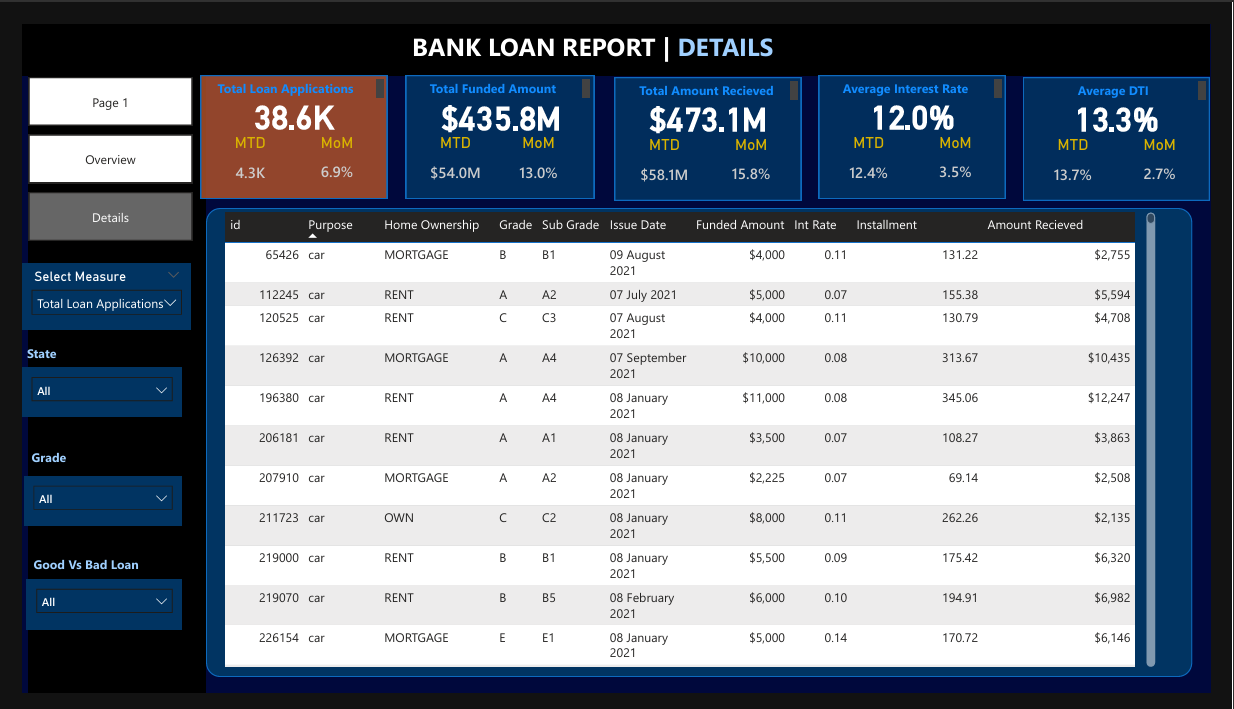

This screenshot's page, from the dashboard's own definition file:
{"tool":"powerbi","page":{"name":"Details","canvas":[1280,720],"ordinal":2},"visuals":[{"type":"shape","box":[6.7,55,191.7,665],"z":0},{"type":"shape","box":[192,55.3,201.2,133],"z":0,"group":"g1"},{"type":"shape","box":[413.3,55.3,202.9,133],"z":0,"group":"g2"},{"type":"shape","box":[858.6,55.3,201.2,133],"z":0,"group":"g4"},{"type":"shape","box":[638.6,57,201.2,133],"z":0,"group":"g3"},{"type":"shape","box":[1078.6,57,201.2,133],"z":0,"group":"g5"},{"type":"shape","box":[0,0,1279.4,54.8],"z":1000},{"type":"card","fields":{"Values":["financial_loan (1).Total Loan Applicationa"]},"box":[191.7,55,201.3,86.4],"z":1000,"group":"g1"},{"type":"card","fields":{"Values":["financial_loan (1).Avg Intrest RATE"]},"box":[858.3,55,201.3,86.4],"z":1000,"group":"g4"},{"type":"card","fields":{"Values":["financial_loan (1).Total Funded Amount"]},"box":[416.4,56.2,198.8,85],"z":1000,"group":"g2"},{"type":"card","fields":{"Values":["financial_loan (1).Total Amount Recieved"]},"box":[638.3,56.7,201.3,86.4],"z":1000,"group":"g3"},{"type":"card","fields":{"Values":["financial_loan (1).Avg dti"]},"box":[1078.3,56.7,201.3,86.4],"z":1000,"group":"g5"},{"type":"textbox","box":[415,0,618.3,55],"z":2000},{"type":"textbox","box":[192,55,201.3,29.9],"z":2000,"group":"g1"},{"type":"textbox","box":[413.4,55,203.1,29.9],"z":2000,"group":"g2"},{"type":"textbox","box":[858.6,55,201.3,29.9],"z":2000,"group":"g4"},{"type":"textbox","box":[638.6,56.7,201.3,29.9],"z":2000,"group":"g3"},{"type":"textbox","box":[1078.6,56.7,201.3,29.9],"z":2000,"group":"g5"},{"type":"group","id":"g1","title":"Group 1","box":[191.7,55,201.7,133.3],"z":3000},{"type":"card","title":"MTD","fields":{"Values":["financial_loan (1).MTD Loan Applications"]},"box":[192.2,116.5,105.5,71.5],"z":3000,"group":"g1"},{"type":"card","title":"MTD","fields":{"Values":["financial_loan (1).MTD Funded Amount"]},"box":[413.6,116.5,106.4,71.5],"z":3000,"group":"g2"},{"type":"card","title":"MTD","fields":{"Values":["financial_loan (1).MTD Avg Intrest rate"]},"box":[858.8,116.5,105.5,71.5],"z":3000,"group":"g4"},{"type":"card","title":"MTD","fields":{"Values":["financial_loan (1).MTD Total Amount Recieved"]},"box":[638.8,118.2,105.5,71.5],"z":3000,"group":"g3"},{"type":"card","title":"MTD","fields":{"Values":["financial_loan (1).MTD Avg dti"]},"box":[1078.8,118.2,105.5,71.5],"z":3000,"group":"g5"},{"type":"group","id":"g2","title":"Group 1","box":[413.3,55,203.3,133.3],"z":4000},{"type":"card","title":"MoM","fields":{"Values":["financial_loan (1).MoM Loan Aplications"]},"box":[303.9,116.7,70,68.3],"z":4000,"group":"g1"},{"type":"card","title":"MoM","fields":{"Values":["financial_loan (1).MoM Funded Amount"]},"box":[520.3,116.7,71.7,71.7],"z":4000,"group":"g2"},{"type":"card","title":"MoM","fields":{"Values":["financial_loan (1).MoM Avg Intrest rate"]},"box":[970.5,116.7,70,68.3],"z":4000,"group":"g4"},{"type":"card","title":"MoM","fields":{"Values":["financial_loan (1).MoM Total Amount Recieved"]},"box":[750.5,118.4,70,68.3],"z":4000,"group":"g3"},{"type":"card","title":"MoM","fields":{"Values":["financial_loan (1).MoM Avg dti"]},"box":[1190.5,118.4,70,68.3],"z":4000,"group":"g5"},{"type":"group","id":"g3","title":"Group 1","box":[638.3,56.7,203.3,133.3],"z":6000},{"type":"group","id":"g4","title":"Group 1","box":[858.3,55,200,133.3],"z":7000},{"type":"group","id":"g5","title":"Group 1","box":[1078.3,56.7,201.7,133.3],"z":8000},{"type":"slicer","fields":{"Values":["financial_loan (1).address_state"]},"box":[0,370,171.7,53.3],"z":9000},{"type":"textbox","box":[0,340,171.7,30],"z":10000},{"type":"slicer","fields":{"Values":["financial_loan (1).grade"]},"box":[1.7,486.7,170,53.3],"z":11000},{"type":"slicer","fields":{"Values":["financial_loan (1).Good vs Bad Loan"]},"box":[5,598.3,166.7,53.3],"z":12000},{"type":"textbox","box":[6.7,568.3,171.7,30],"z":13000},{"type":"textbox","box":[5,451.7,171.7,30],"z":14000},{"type":"shape","box":[198.3,198.3,1061.7,505],"z":15000},{"type":"slicer","fields":{"Values":["Select Measure.Select Measure"]},"box":[0,258.3,181.7,71.7],"z":16000},{"type":"tableEx","fields":{"Values":["financial_loan (1).id","financial_loan (1).purpose","financial_loan (1).home_ownership","financial_loan (1).grade","financial_loan (1).sub_grade","financial_loan (1).issue_date","financial_loan (1).Total Funded Amount","Sum(financial_loan (1).int_rate)","Sum(financial_loan (1).installment)","financial_loan (1).Total Amount Recieved"]},"box":[213.3,198.3,1011.7,498.3],"z":20001},{"type":"pageNavigator","box":[6.7,56.7,176.7,176.7],"z":20002}]}

Visuals, with their boxes in screenshot pixels (x1, y1, x2, y2), scaled from the page's 1280x720 canvas onto the 1234x709 screenshot:
shape: locate(6, 54, 191, 708)
shape: locate(185, 54, 379, 185)
shape: locate(398, 54, 594, 185)
shape: locate(828, 54, 1022, 185)
shape: locate(616, 56, 810, 187)
shape: locate(1040, 56, 1233, 187)
shape: locate(0, 0, 1233, 54)
card - financial_loan (1).Total Loan Applicationa: locate(185, 54, 379, 139)
card - financial_loan (1).Avg Intrest RATE: locate(827, 54, 1022, 139)
card - financial_loan (1).Total Funded Amount: locate(401, 55, 593, 139)
card - financial_loan (1).Total Amount Recieved: locate(615, 56, 809, 141)
card - financial_loan (1).Avg dti: locate(1040, 56, 1233, 141)
textbox: locate(400, 0, 996, 54)
textbox: locate(185, 54, 379, 84)
textbox: locate(399, 54, 594, 84)
textbox: locate(828, 54, 1022, 84)
textbox: locate(616, 56, 810, 85)
textbox: locate(1040, 56, 1233, 85)
"Group 1" group: locate(185, 54, 379, 185)
"MTD" card: locate(185, 115, 287, 185)
"MTD" card: locate(399, 115, 501, 185)
"MTD" card: locate(828, 115, 930, 185)
"MTD" card: locate(616, 116, 718, 187)
"MTD" card: locate(1040, 116, 1142, 187)
"Group 1" group: locate(398, 54, 594, 185)
"MoM" card: locate(293, 115, 360, 182)
"MoM" card: locate(502, 115, 571, 186)
"MoM" card: locate(936, 115, 1003, 182)
"MoM" card: locate(724, 117, 791, 184)
"MoM" card: locate(1148, 117, 1215, 184)
"Group 1" group: locate(615, 56, 811, 187)
"Group 1" group: locate(827, 54, 1020, 185)
"Group 1" group: locate(1040, 56, 1233, 187)
slicer - financial_loan (1).address_state: locate(0, 364, 166, 417)
textbox: locate(0, 335, 166, 364)
slicer - financial_loan (1).grade: locate(2, 479, 166, 532)
slicer - financial_loan (1).Good vs Bad Loan: locate(5, 589, 166, 642)
textbox: locate(6, 560, 172, 589)
textbox: locate(5, 445, 170, 474)
shape: locate(191, 195, 1215, 693)
slicer - Select Measure.Select Measure: locate(0, 254, 175, 325)
tableEx - financial_loan (1).id x financial_loan (1).purpose: locate(206, 195, 1181, 686)
pageNavigator: locate(6, 56, 177, 230)
